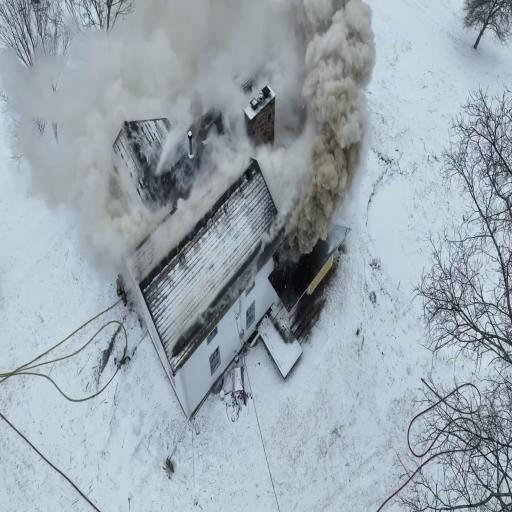smoke: (292, 82, 346, 279)
